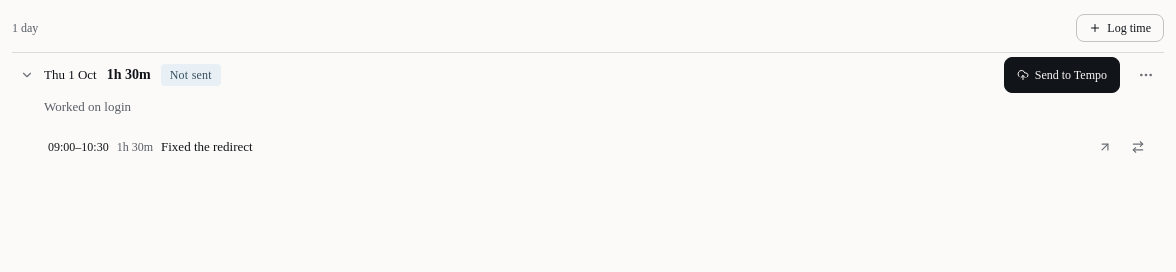
Test: Esc in the text editor › cancels only that edit and returns focus
The image size is (1176, 272).
Click the button named "More for Thu 1 Oct". click: point(1146, 75)
box: [1128, 57, 1164, 93]
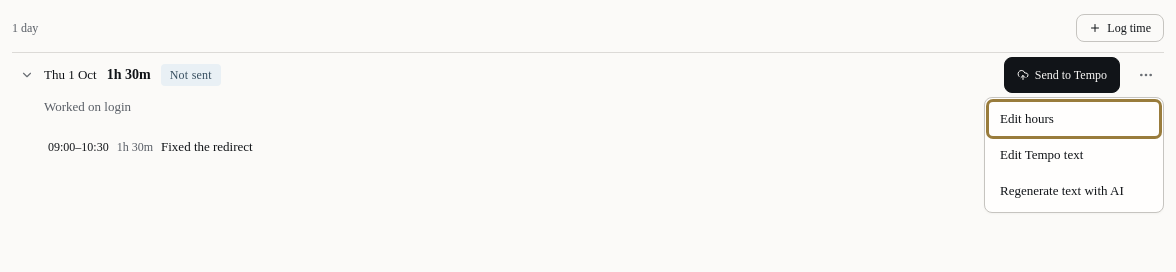
Click the menu item "Edit Tempo text". click: point(1074, 155)
box: [989, 138, 1159, 172]
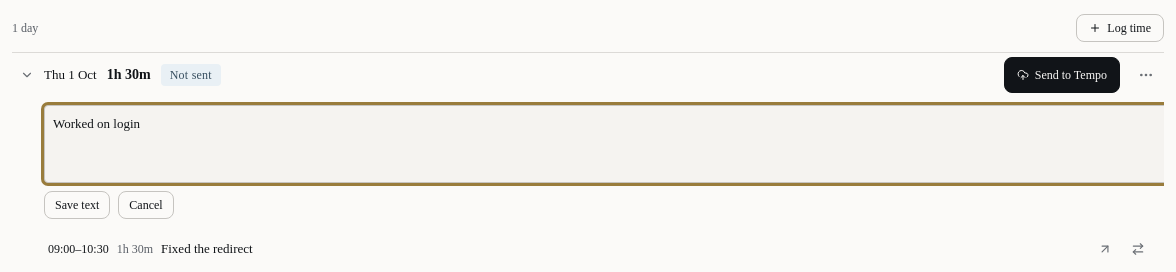
Replace the text in the text box named "Line text for Thu 1 Oct" with "half typed". click: point(604, 144)
box: [44, 105, 1164, 183]
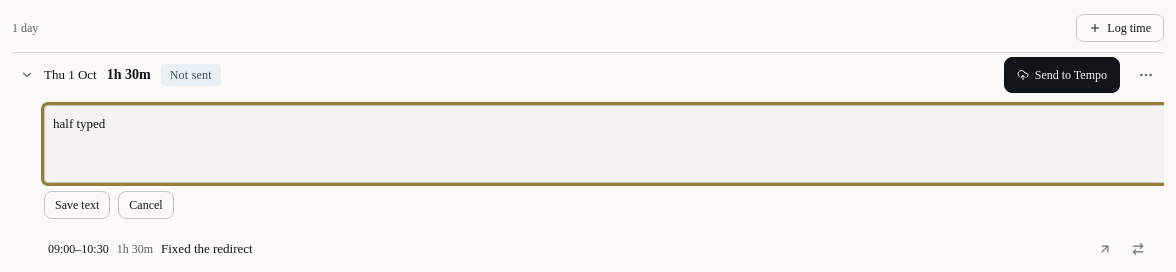
Press Escape in the text box named "Line text for Thu 1 Oct", box [44, 105, 1164, 183]
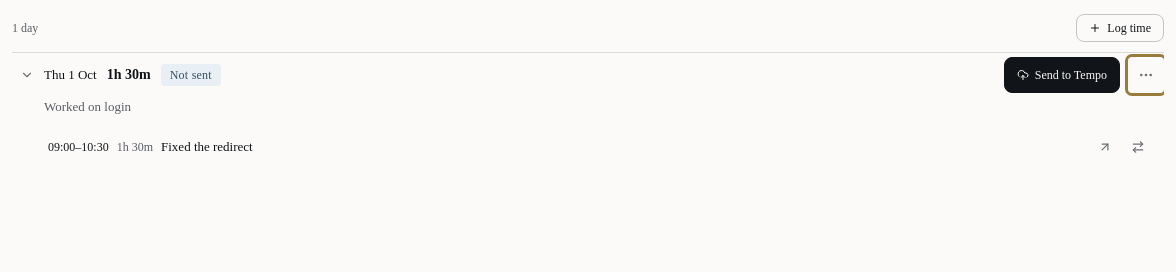
Result: the text "Worked on login" is shown at [44, 99, 131, 114]
